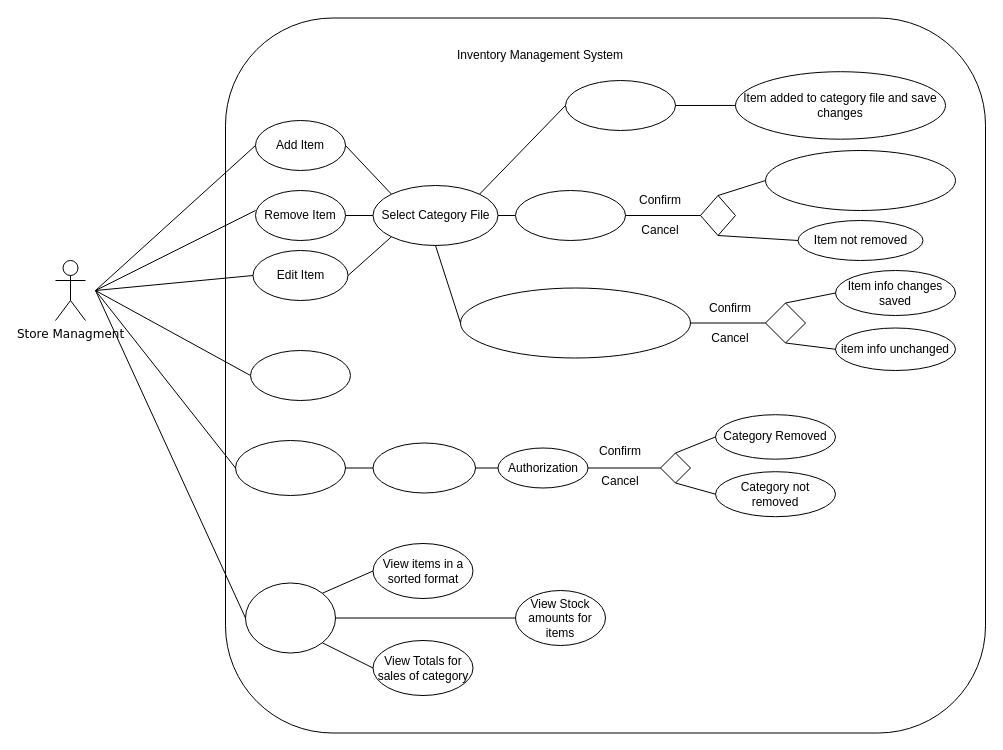
This 1003x750 diagram has some shape labels left out. The centre of each missing label's shape, as x and y in pixels:
Add Category: (300,375)
Enter item info: (620,105)
Item removed from category file and save changes: (860,180)
Remove Category: (290,468)
Select Category: (424,467)
Select Item for Removal: (570,215)
Select item info to edit (examples are editing stock numbers or price changes): (575,322)
View Category/item Info: (290,617)
